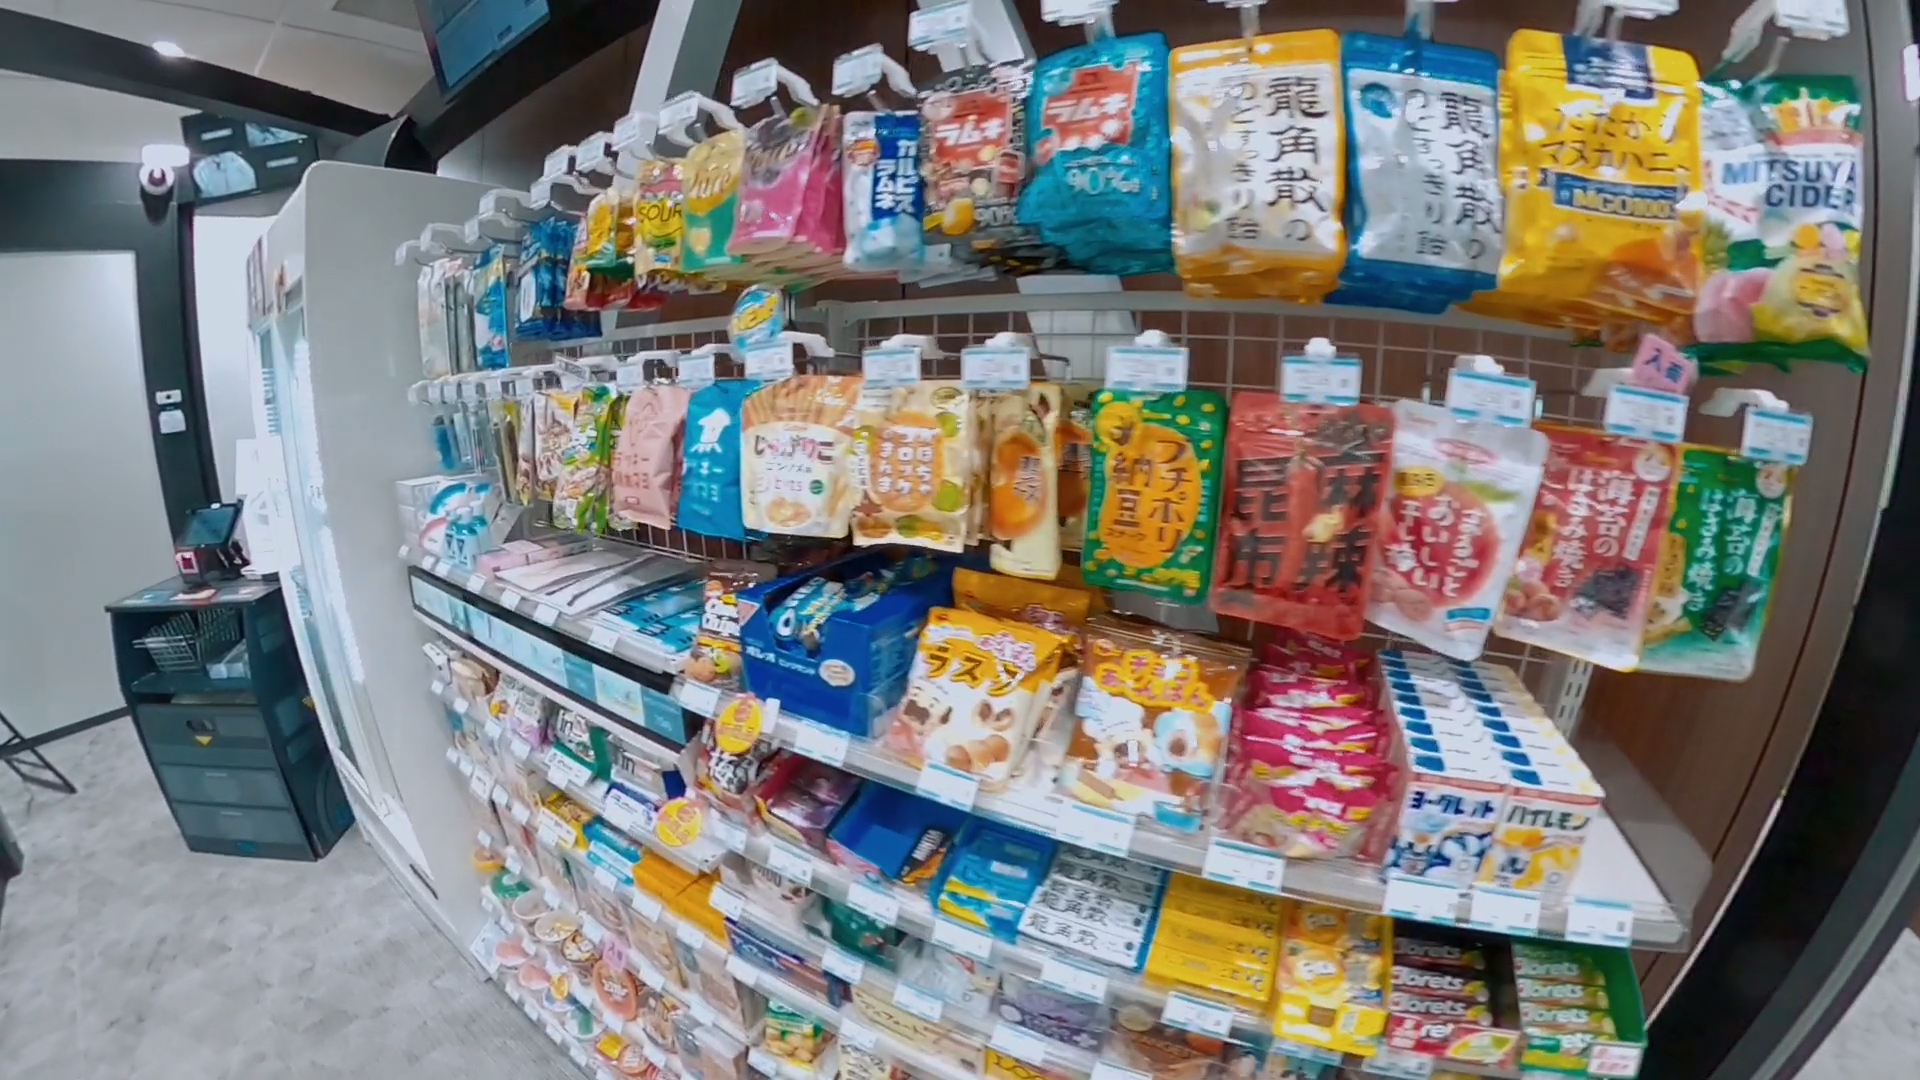NorinoHasamiyaki: (1641, 444, 1786, 682)
